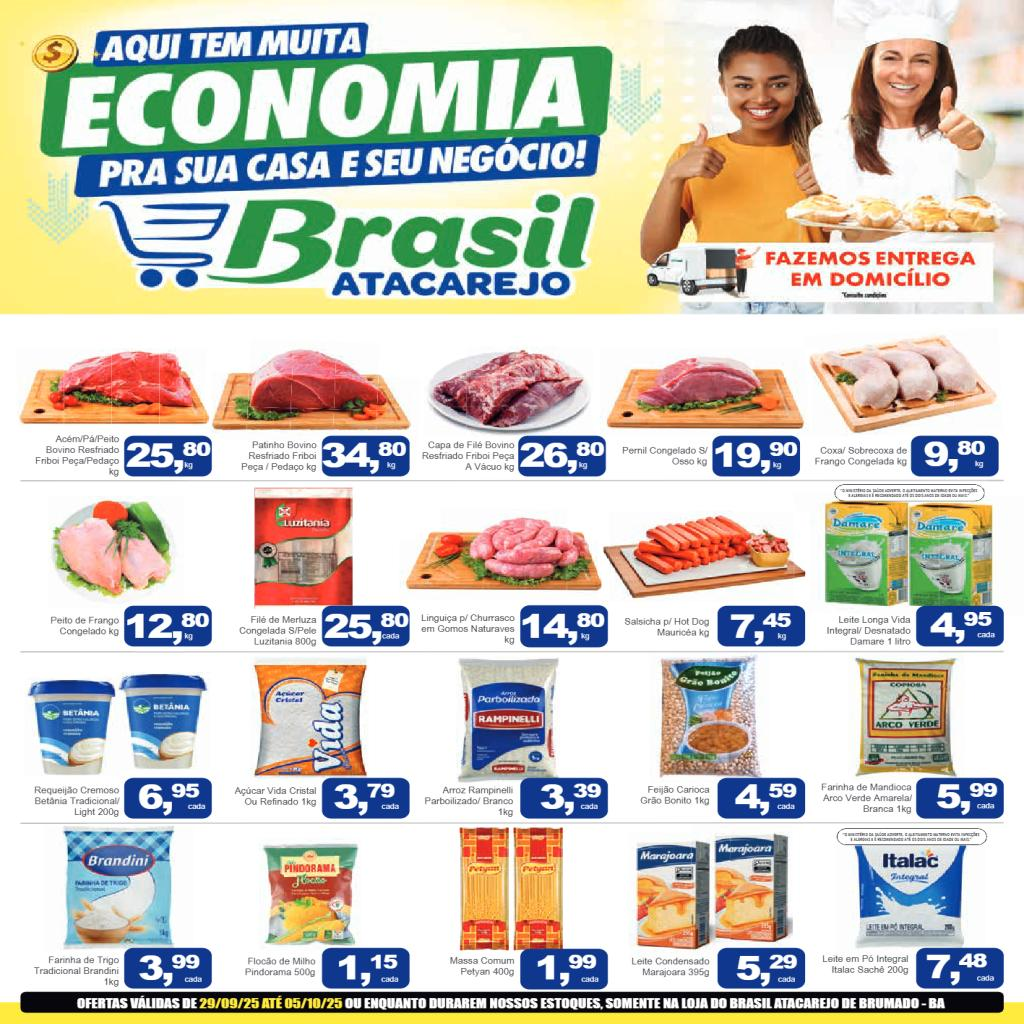price: (520, 611, 606, 647), (324, 612, 408, 648), (519, 440, 605, 475), (125, 612, 212, 646), (714, 440, 800, 474), (126, 441, 212, 474), (322, 442, 409, 474), (922, 952, 997, 987), (330, 782, 404, 817), (726, 610, 795, 646), (927, 610, 996, 646), (535, 952, 603, 988), (136, 952, 204, 987), (137, 783, 207, 816), (336, 952, 402, 987), (539, 781, 604, 816), (922, 439, 988, 473), (734, 781, 800, 815), (934, 782, 998, 815), (736, 952, 798, 986)
product_text: (35, 432, 121, 478), (417, 438, 516, 476), (418, 611, 517, 648), (819, 780, 914, 816), (32, 784, 122, 820), (422, 784, 517, 818), (33, 952, 122, 988), (823, 612, 912, 647), (238, 438, 320, 474), (237, 614, 319, 648), (812, 443, 909, 469), (618, 442, 710, 468), (621, 614, 709, 640), (819, 951, 911, 975), (232, 785, 319, 809), (636, 782, 713, 808), (240, 954, 318, 979), (628, 955, 712, 978), (47, 614, 121, 640), (446, 954, 516, 979)
